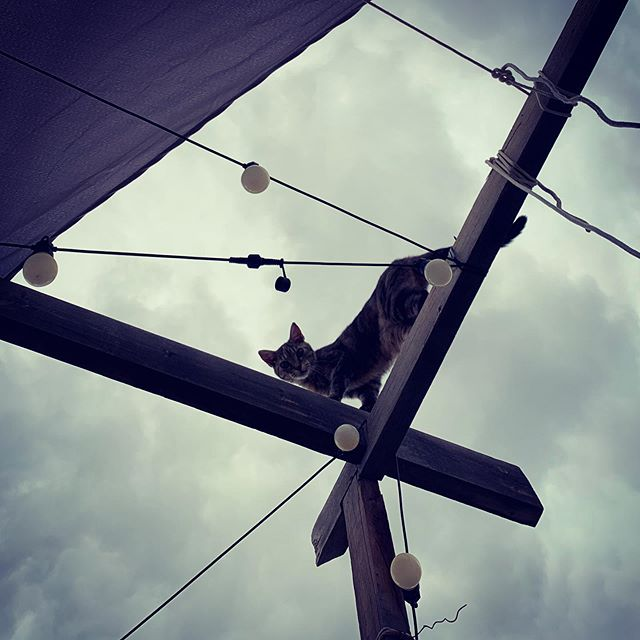animal: (245, 218, 461, 464)
sky: (23, 42, 640, 627)
